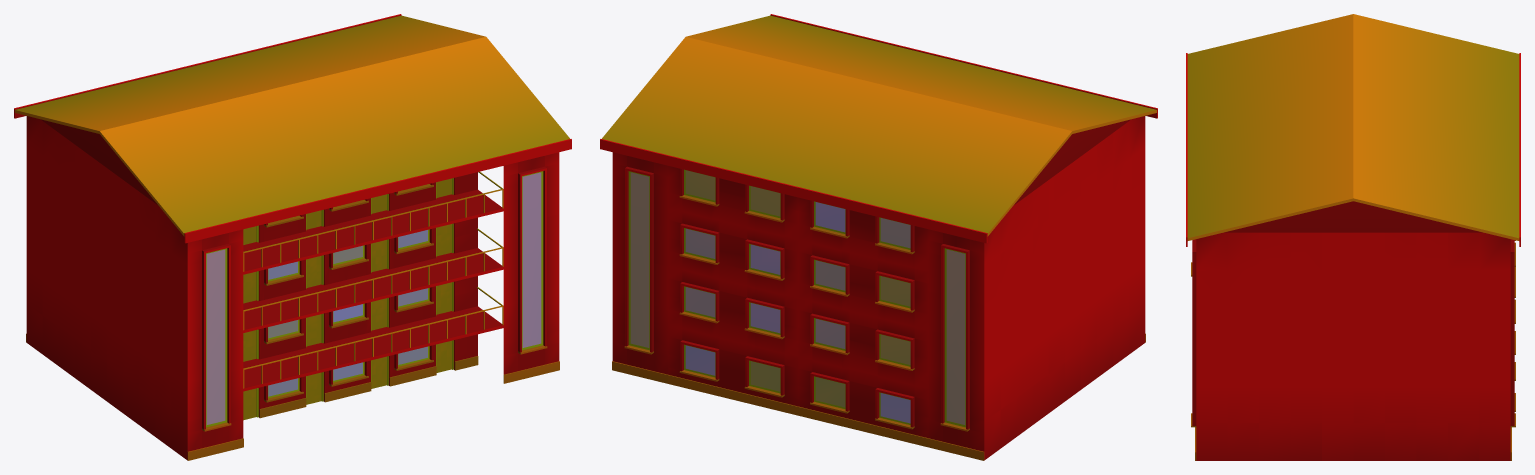
The model's file is school.glb.
The picture shows the model from 3 angles, left to right: view 1: azimuth 30°, elevation 25°; view 2: azimuth 150°, elevation 25°; view 3: azimuth 270°, elevation 25°; orthographic projection. The views are drawn at different scales.
Visible parts, largest first — view 1: school__block__LOD0; view 2: school__block__LOD0; view 3: school__block__LOD0.
Part boxes in pixels (left/top/right/bottom): school__block__LOD0: left=14, top=14, right=571, bottom=460; school__block__LOD0: left=600, top=14, right=1157, bottom=460; school__block__LOD0: left=1186, top=14, right=1520, bottom=460.
Size of what is drawn, in the model's own units: 20.8 by 14 by 15.96.
